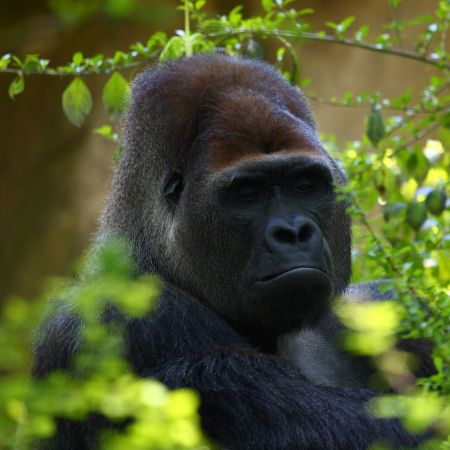Goriila: (30, 51, 450, 424)
